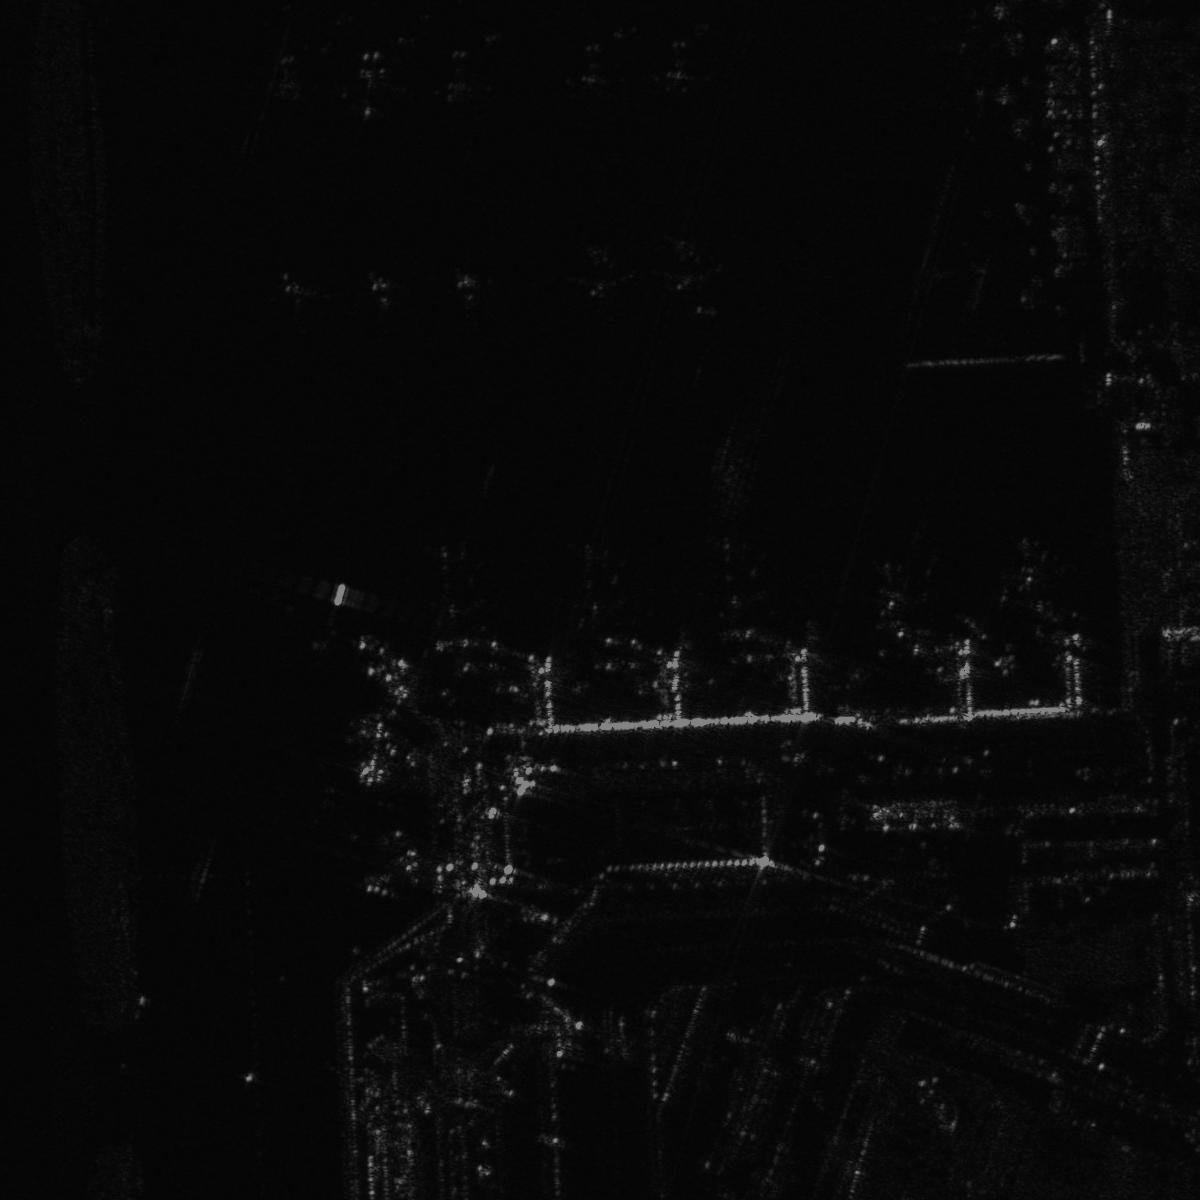A220: (543, 538, 654, 625), (986, 537, 1079, 597), (651, 236, 730, 296), (555, 40, 629, 102), (342, 269, 422, 324)
A320/321: (433, 266, 501, 324)
ARJ21: (253, 270, 335, 338), (636, 37, 725, 99), (422, 43, 504, 107), (252, 52, 321, 109)
Boeing737: (330, 42, 411, 127)
Boeing787: (684, 538, 771, 638)
other: (913, 68, 1025, 142), (409, 543, 492, 630), (911, 235, 997, 316), (905, 1, 1019, 59), (849, 553, 949, 616), (562, 238, 640, 299)
